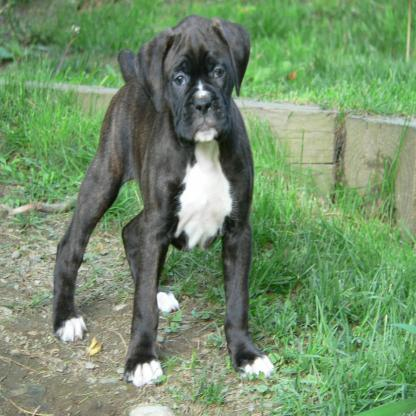boxer: (48, 10, 272, 390)
